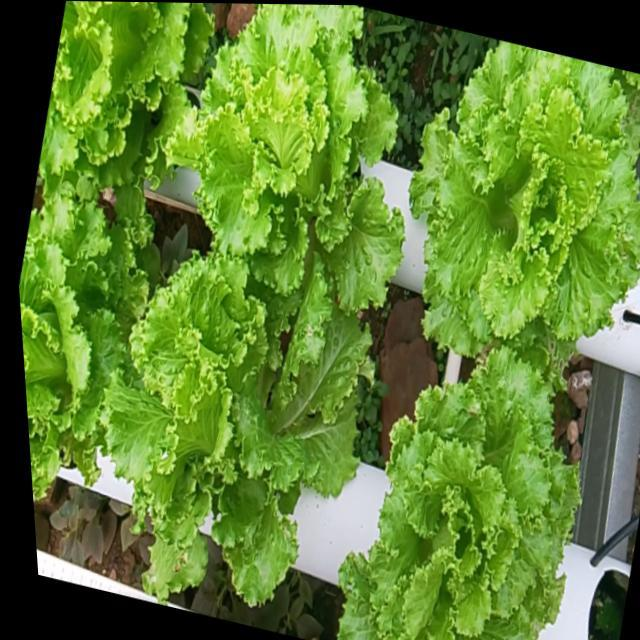Mature: (99, 245, 367, 608), (404, 39, 640, 362), (174, 4, 399, 323), (334, 345, 576, 640), (19, 204, 142, 501), (36, 1, 207, 198)
